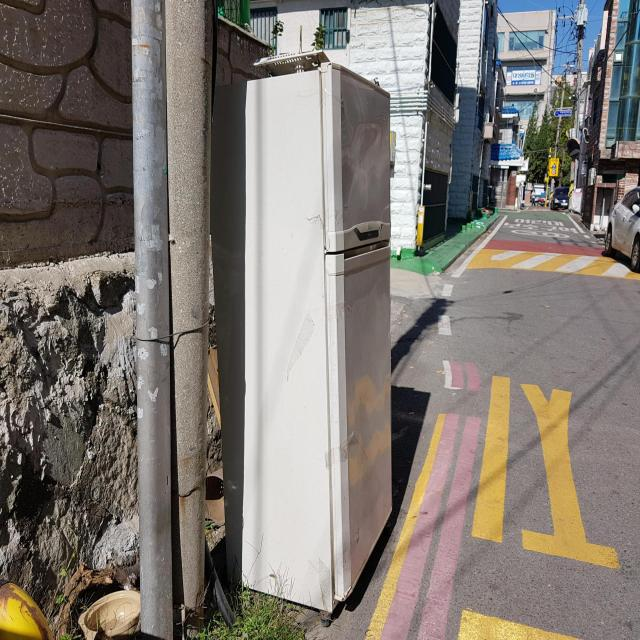refrigerator: (203, 46, 395, 629)
